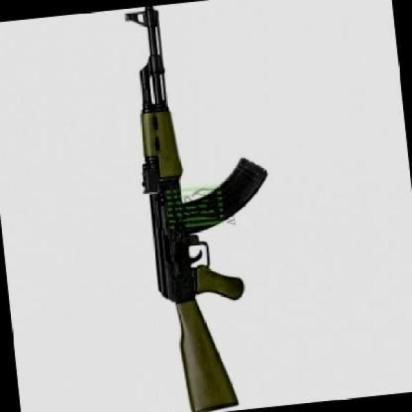Gun: (90, 0, 298, 412)
